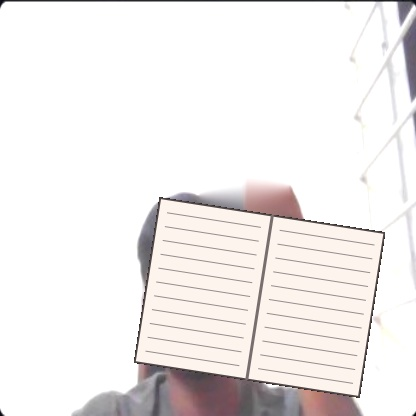book: (133, 197, 385, 398)
